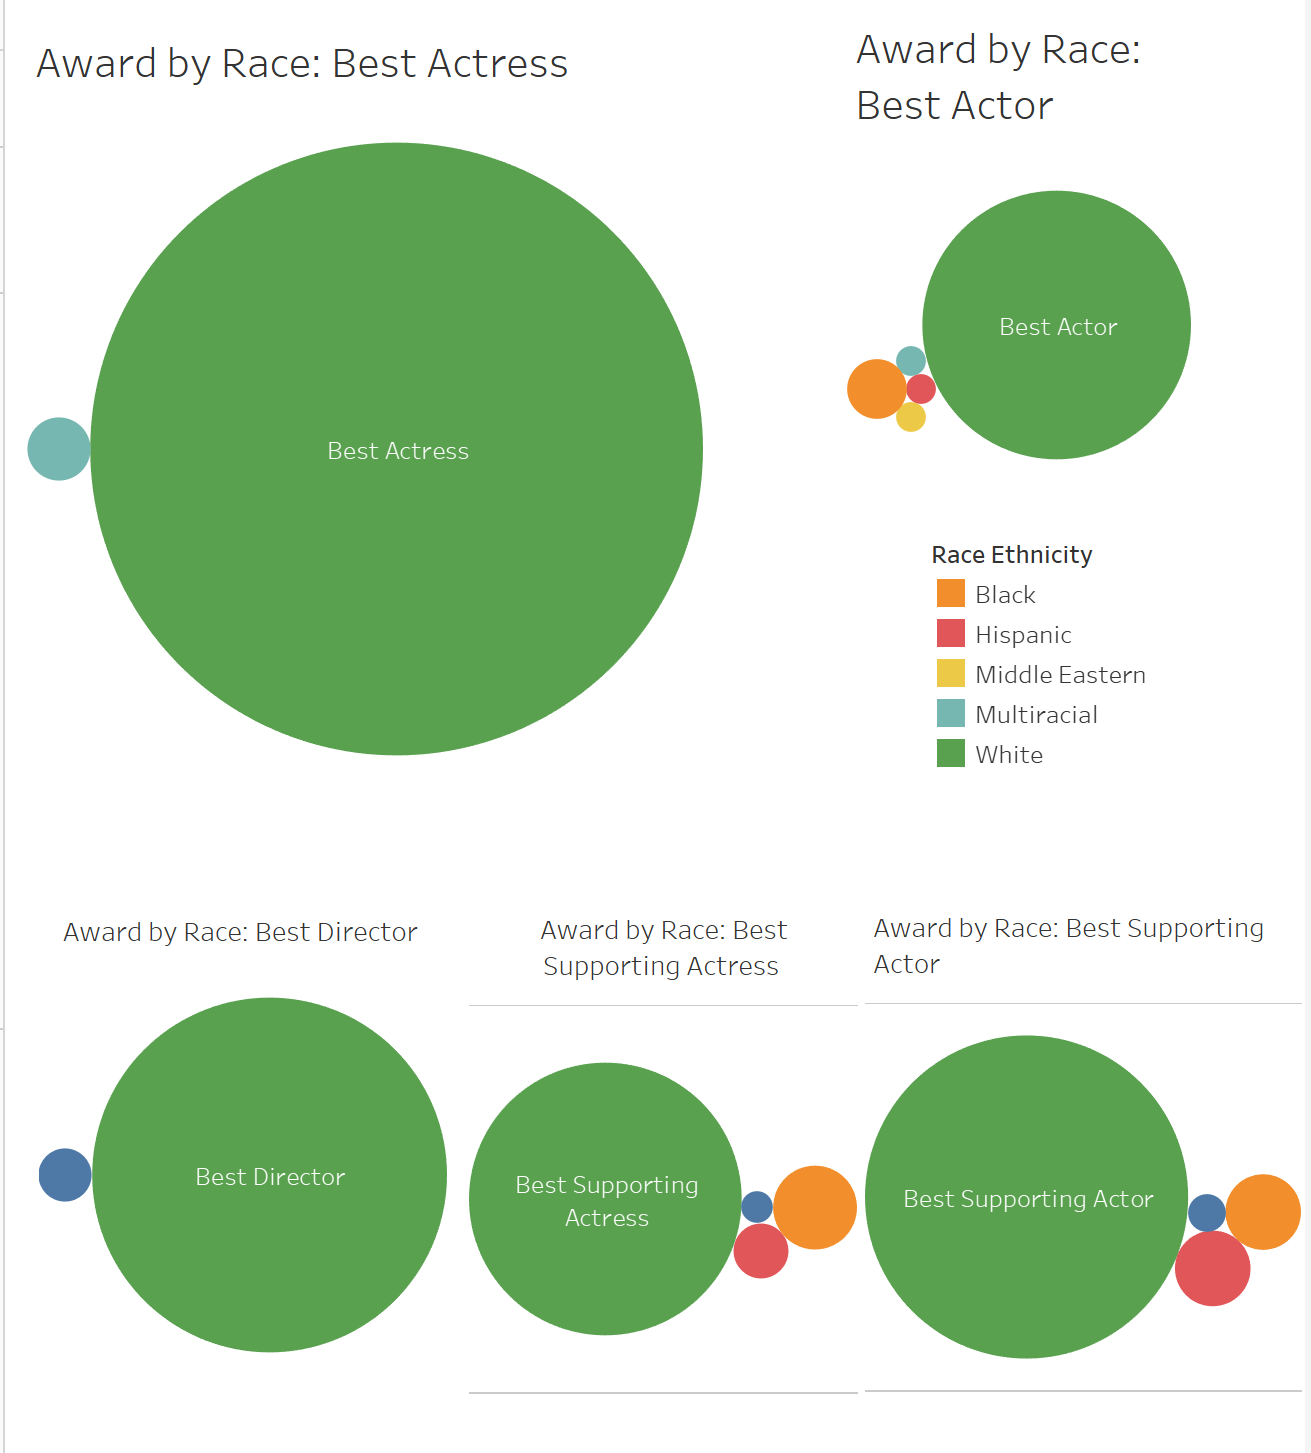

The dashboard page shown, as its layout file describes it:
{"tool":"tableau","page":{"name":"ABR Filtered by Category","canvas":[1000,800],"ordinal":0},"visuals":[{"type":"worksheet","title":"Awards by Race: Filtered by Category","mark":"Circle","box":[8,8,824,784]},{"type":"filter","title":"Awards by Race: Filtered by Category","param":"[federated.0prdzp90t39lti1d2y92r0gr8idn].[none:award:nk]","box":[832,8,160,139]},{"type":"legend","title":"Awards by Race: Filtered by Category","param":"[federated.0prdzp90t39lti1d2y92r0gr8idn].[none:race_ethnicity:nk]","box":[832,147,160,105]}]}

Visuals, with their boxes on the page's 1000x800 design canvas (x1, y1, x2, y2). These are canvas units, not pixel positions in the 1311x1453 screenshot, which may show the page scaled, cropped or inside an application window:
"Awards by Race: Filtered by Category" worksheet (Circle marks): [left=8, top=8, right=832, bottom=792]
"Awards by Race: Filtered by Category" filter: [left=832, top=8, right=992, bottom=147]
"Awards by Race: Filtered by Category" legend: [left=832, top=147, right=992, bottom=252]
